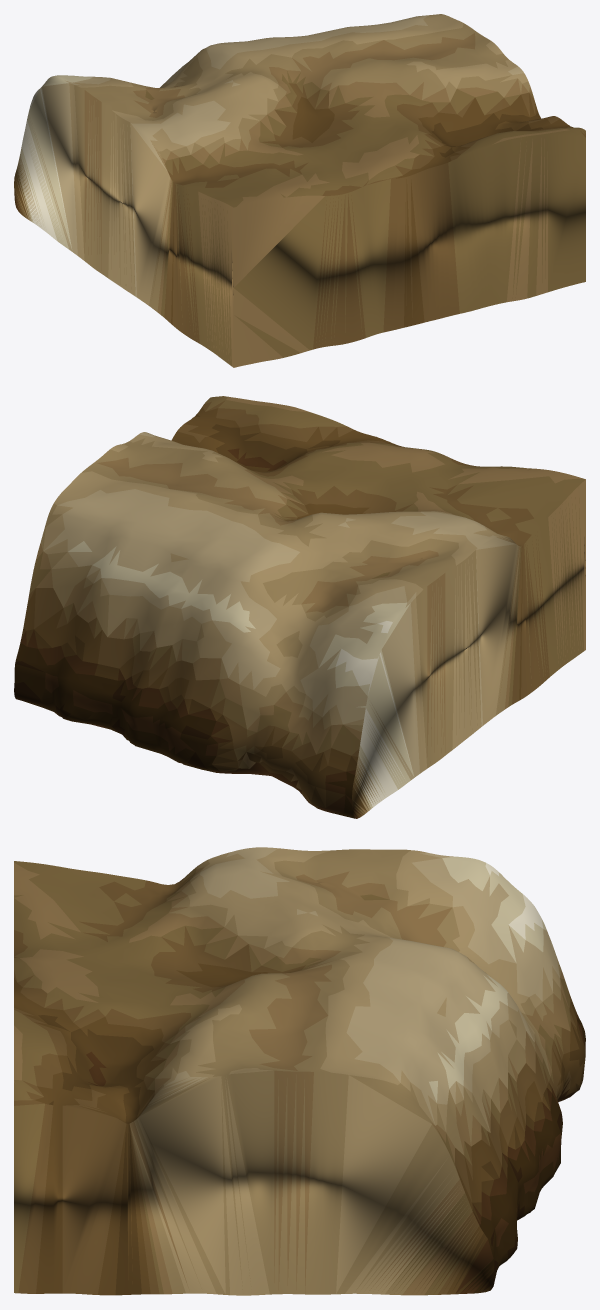
Rendered from rock_arch_166.glb.
3 renders of one model, top to bottom at view 1: azimuth 30°, elevation 25°; view 2: azimuth 150°, elevation 25°; view 3: azimuth 270°, elevation 25°, orthographic. The views are drawn at different scales.
Visible parts, largest first — view 1: rock_arch_166; view 2: rock_arch_166; view 3: rock_arch_166.
Part boxes in pixels (x1,y1,x2,y2): rock_arch_166: [14, 14, 585, 367]; rock_arch_166: [14, 396, 585, 818]; rock_arch_166: [14, 847, 585, 1295].
Bounding box in the file's own units: 24 × 11.84 × 25.93.
